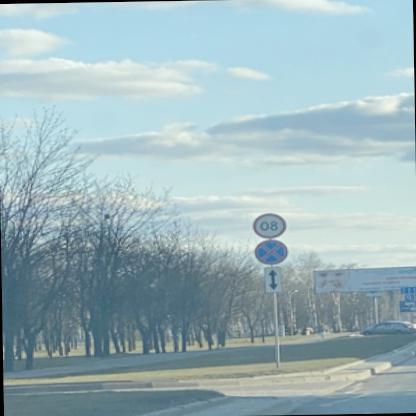speedlimit: (254, 211, 288, 237)
